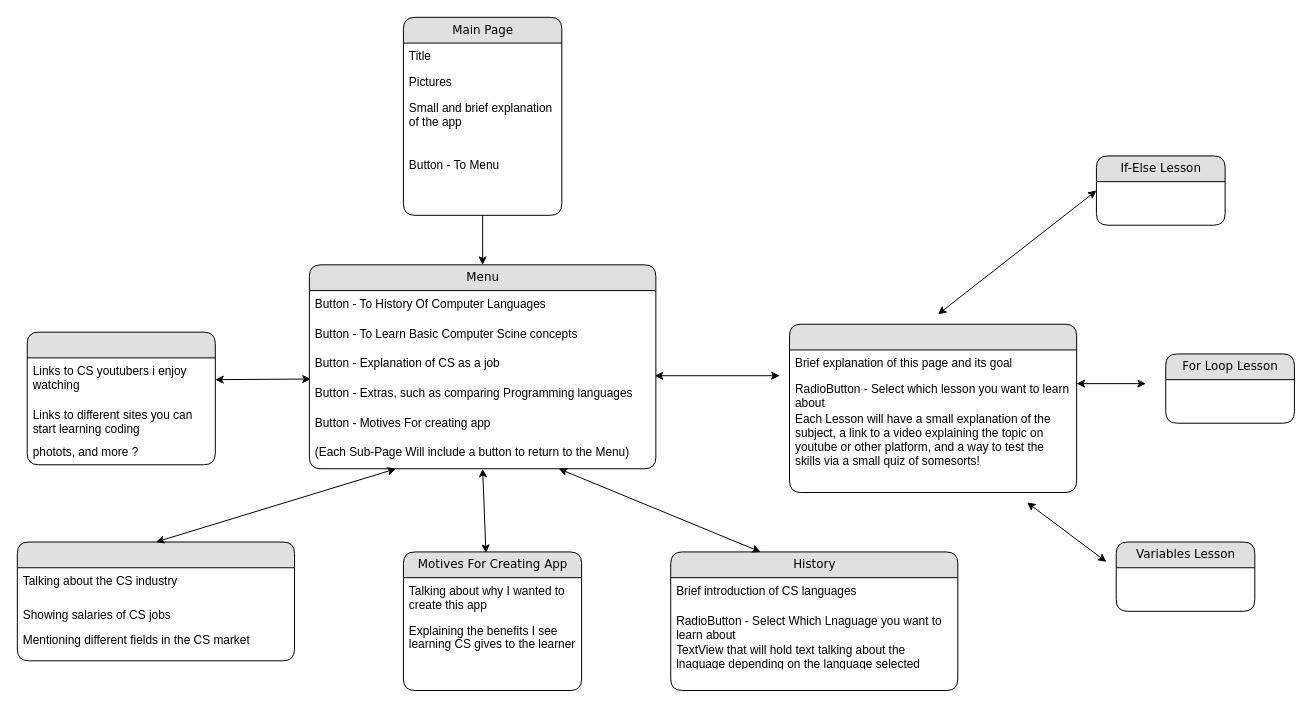
Some shapes in this 1312 by 708 pixel diagram are drawn without their labels. The box of each missing label's shape, as (x1, y1, x2, y2) in pixels:
CS as a job: (16, 541, 295, 661)
Extras: (26, 331, 215, 465)
Learning Languages: (789, 323, 1077, 493)
